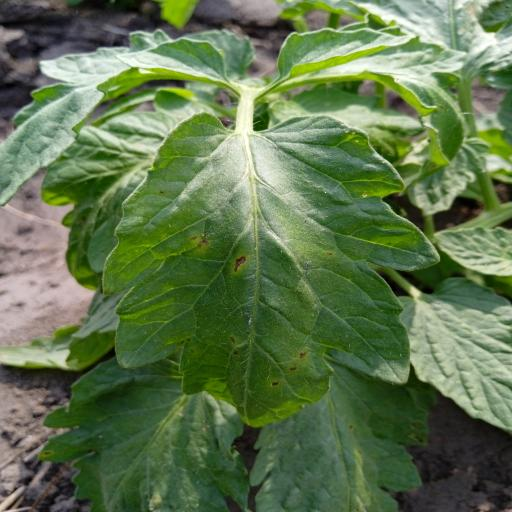Tomato_Mildiou: (91, 105, 443, 434)
